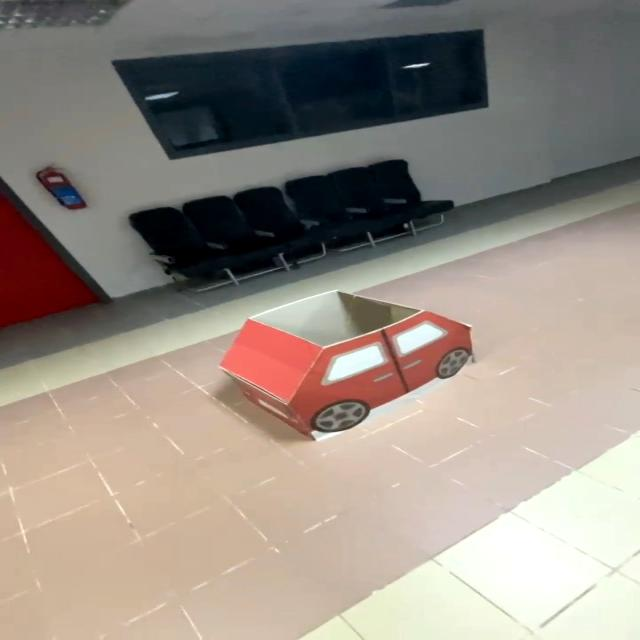red_car: (183, 283, 512, 450)
